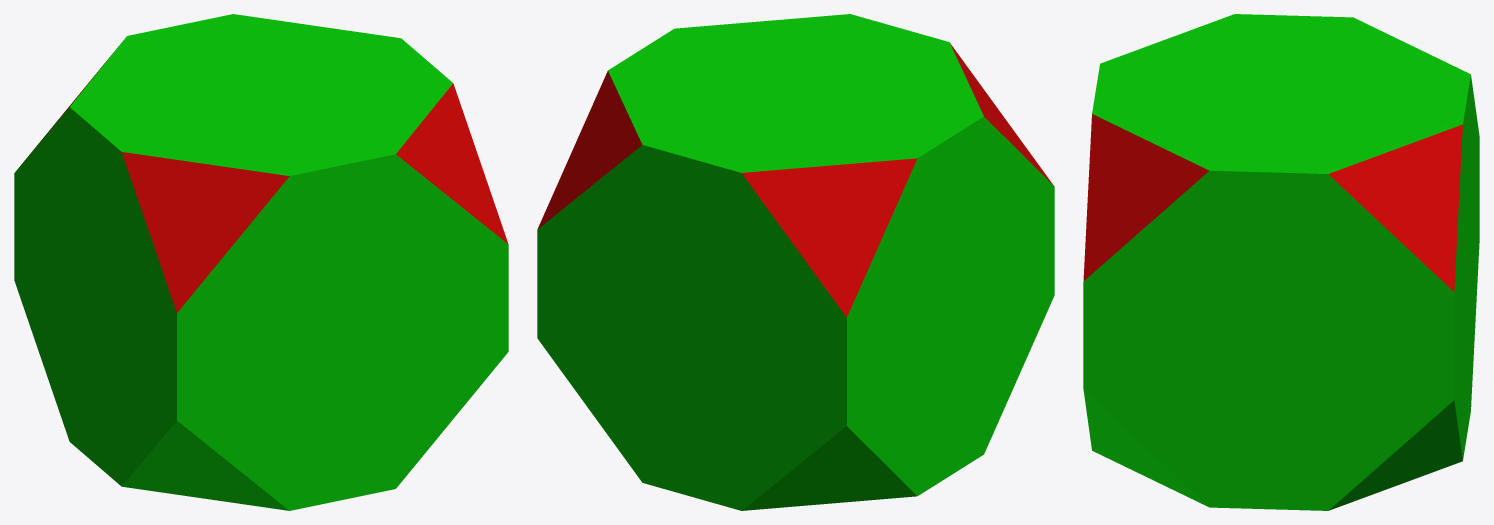
The model's file is anim_cube_000024.obj.
The picture shows the model from 3 angles, left to right: view 1: azimuth 30°, elevation 25°; view 2: azimuth 150°, elevation 25°; view 3: azimuth 270°, elevation 25°; orthographic projection.
Visible parts, largest first — view 1: Cube_Cube.002_Material.002, Cube_Cube.002_Material.001; view 2: Cube_Cube.002_Material.002, Cube_Cube.002_Material.001; view 3: Cube_Cube.002_Material.002, Cube_Cube.002_Material.001.
Part boxes in pixels (<box>): Cube_Cube.002_Material.002: <box>14,14,508,510</box>; Cube_Cube.002_Material.001: <box>21,42,508,312</box>; Cube_Cube.002_Material.002: <box>537,14,1054,510</box>; Cube_Cube.002_Material.001: <box>537,43,1053,317</box>; Cube_Cube.002_Material.002: <box>1083,14,1479,510</box>; Cube_Cube.002_Material.001: <box>1083,114,1462,291</box>.
Bounding box in the file's own units: 3.3 × 3.09 × 3.3.
